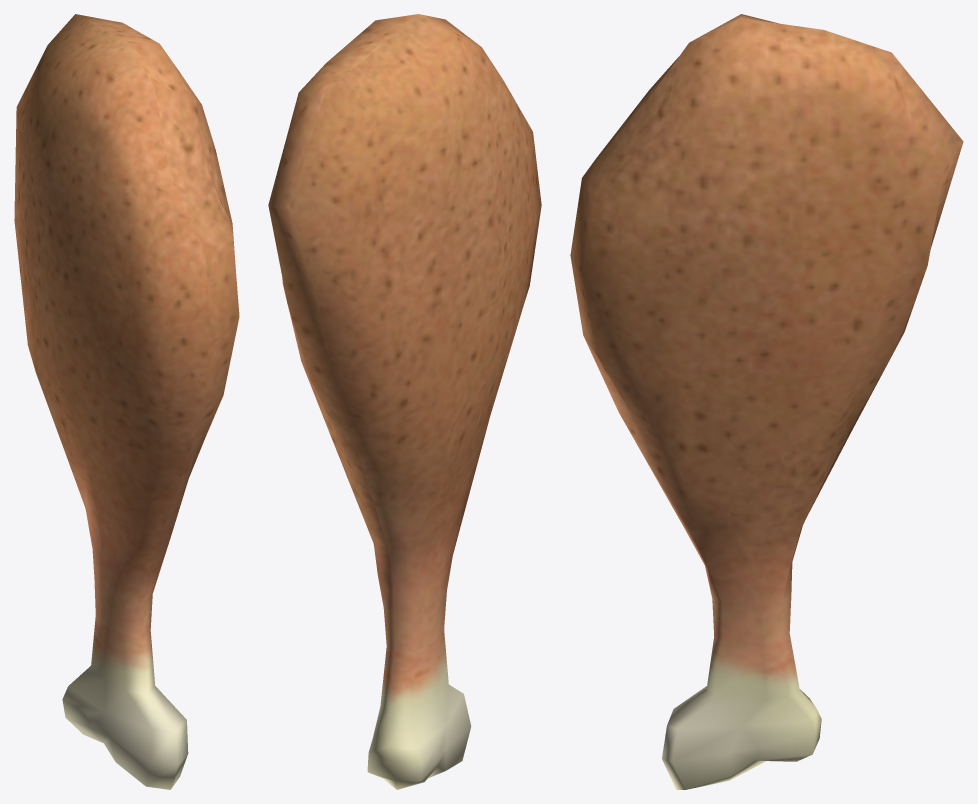
File: niku_mod.fbx
3 renders of one model, left to right at view 1: azimuth 30°, elevation 25°; view 2: azimuth 150°, elevation 25°; view 3: azimuth 270°, elevation 25°, orthographic. The views are drawn at different scales.
Visible parts, largest first — view 1: honetukiniku; view 2: honetukiniku; view 3: honetukiniku.
Boxes of the visible parts, x1,y1,x2,y2 form: honetukiniku: [14, 14, 239, 789]; honetukiniku: [268, 14, 541, 789]; honetukiniku: [570, 14, 963, 789].
Bounding box in the file's own units: 13.44 × 61.21 × 28.45.
